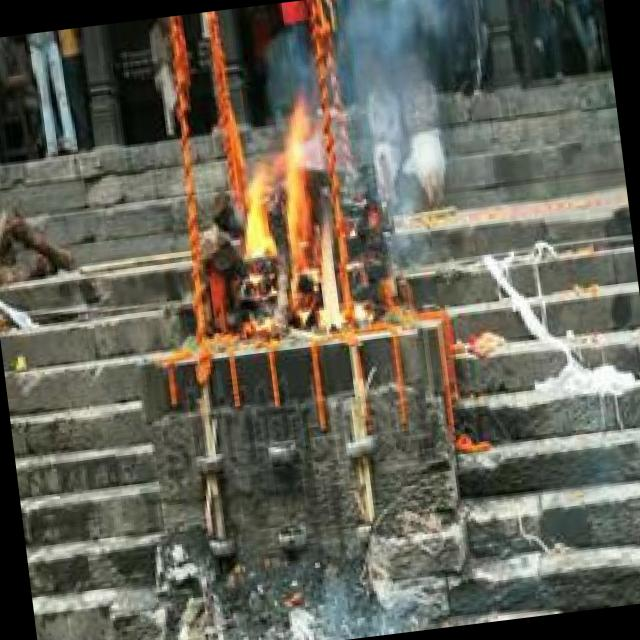Fire: (228, 118, 348, 338)
